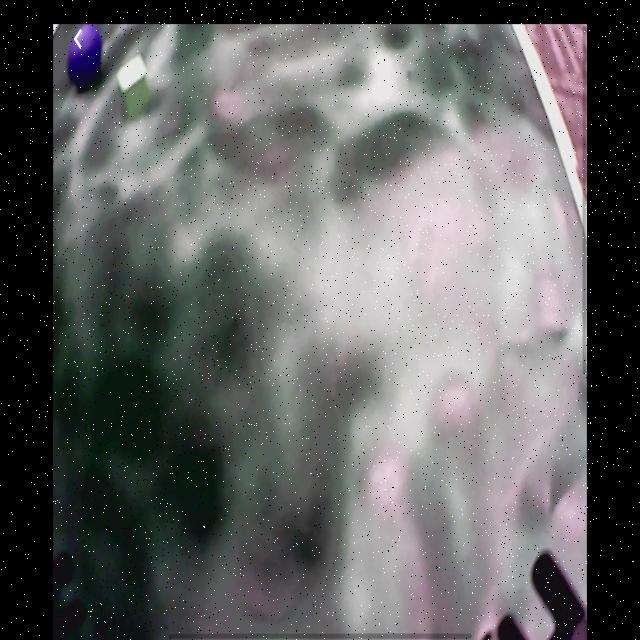ball: (68, 27, 103, 88)
